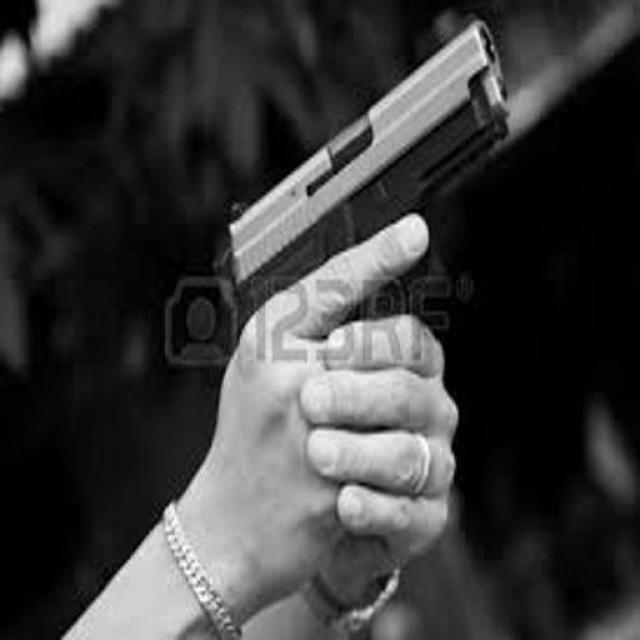pistol: (225, 14, 500, 335)
